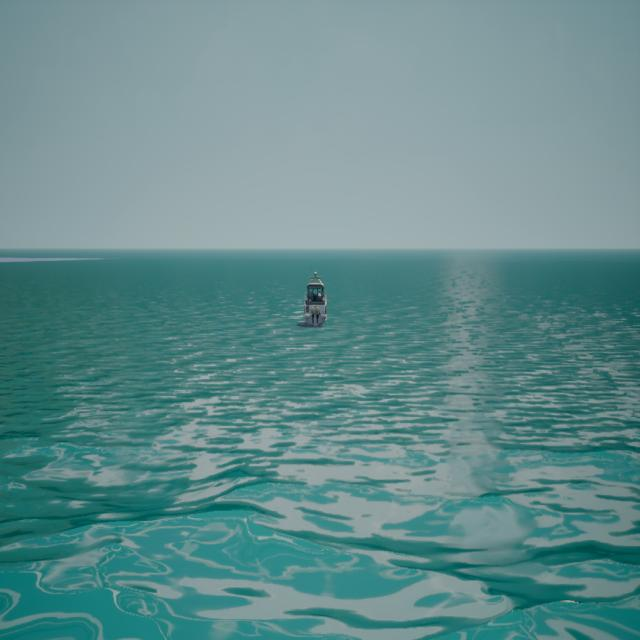ship: (304, 271, 328, 326)
